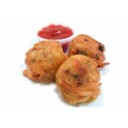bonda: (56, 55, 103, 104), (23, 38, 62, 80), (70, 35, 109, 65)
